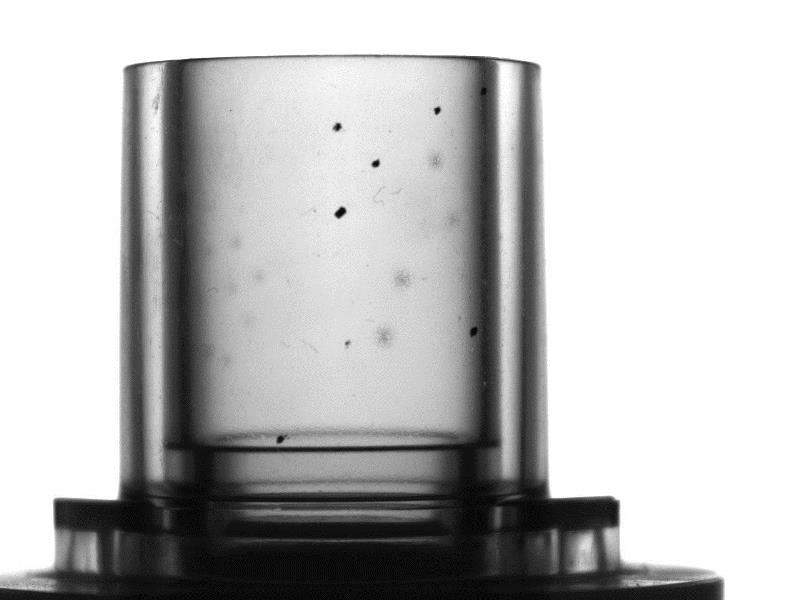blackdot: (331, 118, 347, 135), (467, 321, 481, 339), (370, 156, 383, 170), (334, 205, 347, 218), (431, 102, 441, 117)
